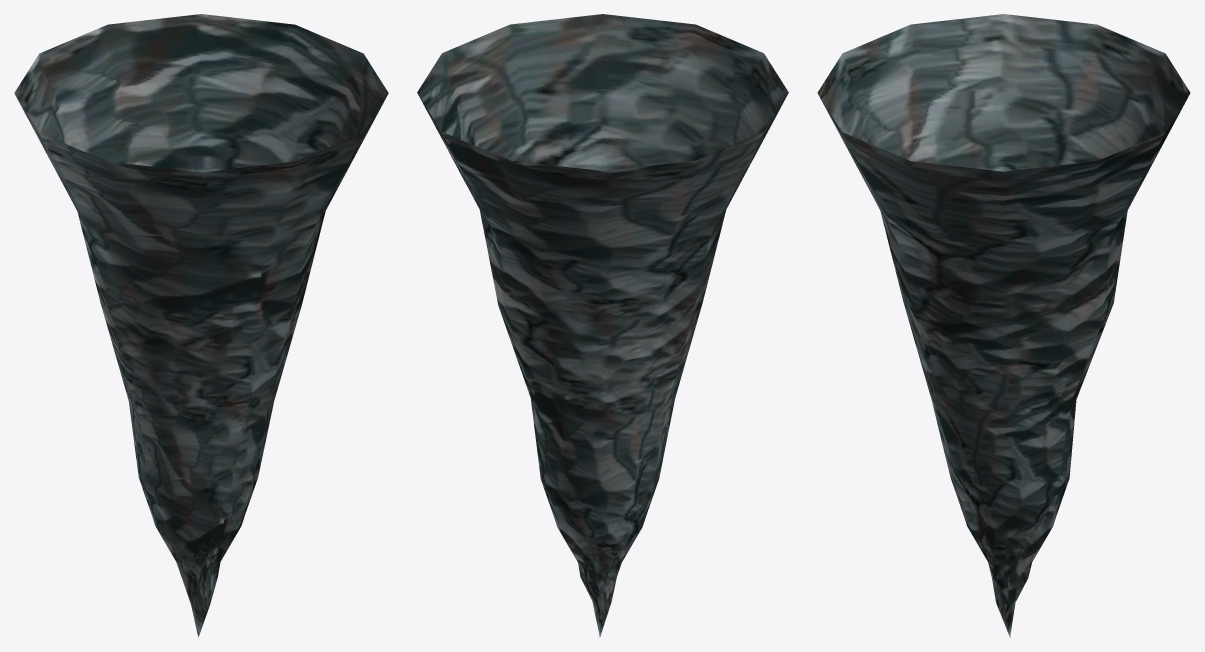
Rendered from INST_SM_STALAGB.fbx.
3 views of the same model, side by side, from view 1: azimuth 30°, elevation 25°; view 2: azimuth 150°, elevation 25°; view 3: azimuth 270°, elevation 25° (orthographic).
Parts seen in each view (by area): view 1: INST_SM_STALAGB; view 2: INST_SM_STALAGB; view 3: INST_SM_STALAGB.
Part boxes in pixels (box(x1,y1,x2,y2)): INST_SM_STALAGB: box(14, 14, 388, 637); INST_SM_STALAGB: box(417, 14, 788, 637); INST_SM_STALAGB: box(817, 14, 1190, 637).
Bounding box in the file's own units: 38970 × 62813 × 38970.
1 material, 1 textured.
